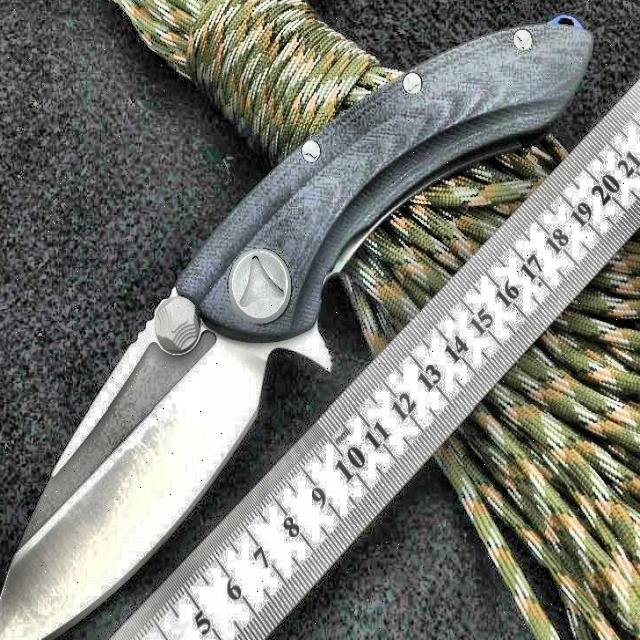knife: (0, 15, 592, 640)
